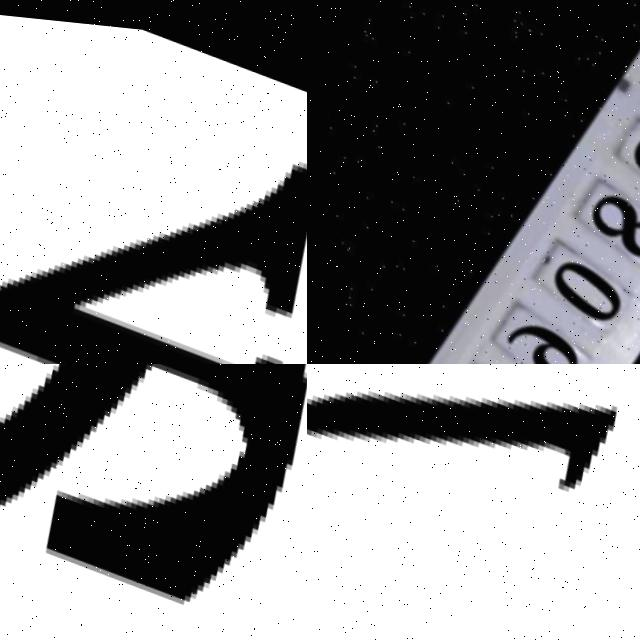0: (510, 229, 640, 347)
8: (556, 166, 640, 277), (597, 103, 640, 219)
9: (469, 290, 596, 364)
A: (0, 364, 307, 640)
J: (307, 364, 640, 640)
W: (0, 33, 307, 364)
